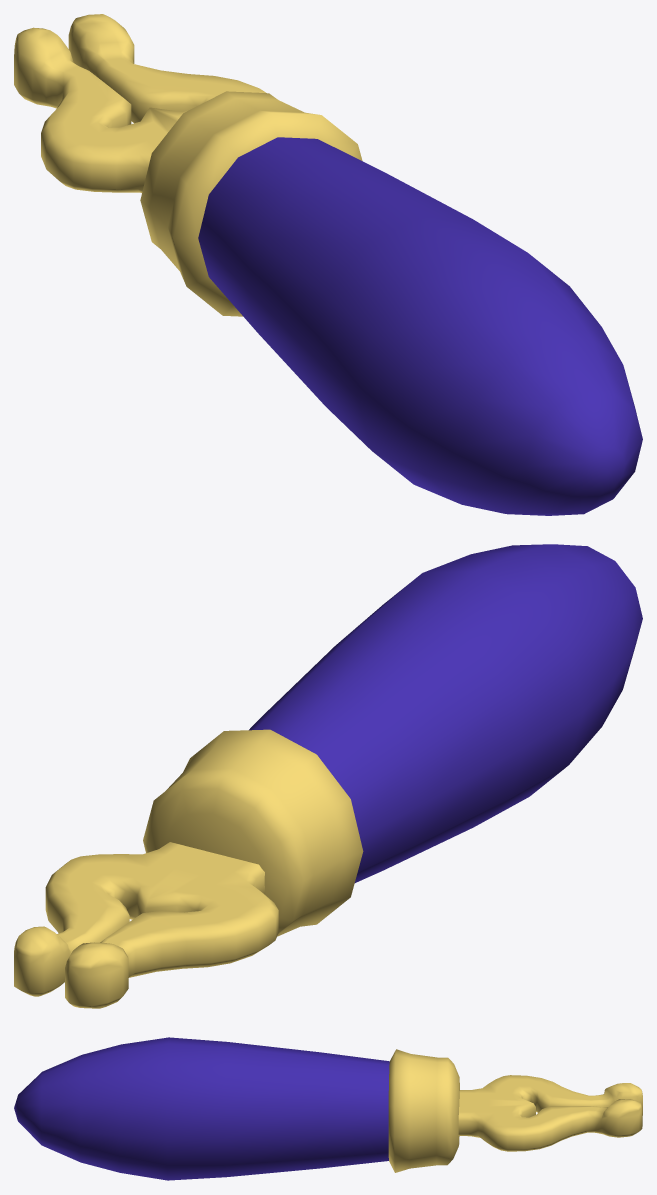
The model's file is props_inkpen.fbx.
3 views of the same model, one above another, from view 1: azimuth 30°, elevation 25°; view 2: azimuth 150°, elevation 25°; view 3: azimuth 270°, elevation 25° (orthographic). The views are drawn at different scales.
Parts seen in each view (by area): view 1: inkpen; view 2: inkpen; view 3: inkpen.
Boxes of the visible parts, left/top/right/bottom form: inkpen: left=14, top=14, right=642, bottom=515; inkpen: left=14, top=544, right=642, bottom=1008; inkpen: left=14, top=1037, right=642, bottom=1180.
Bounding box in the file's own units: 0.2306 × 0.9755 × 0.2229.
